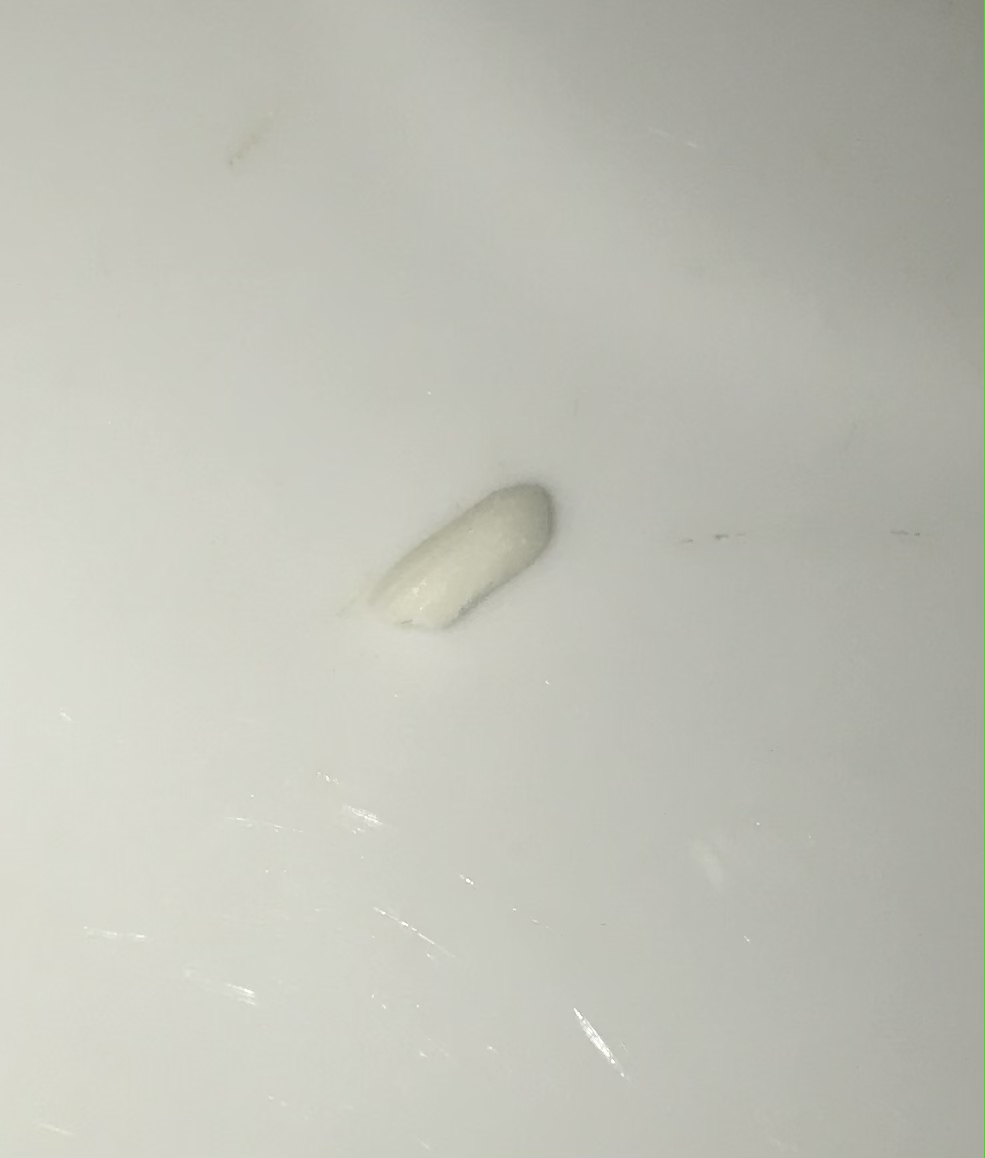Gao Nep Sap: (354, 471, 576, 641)
